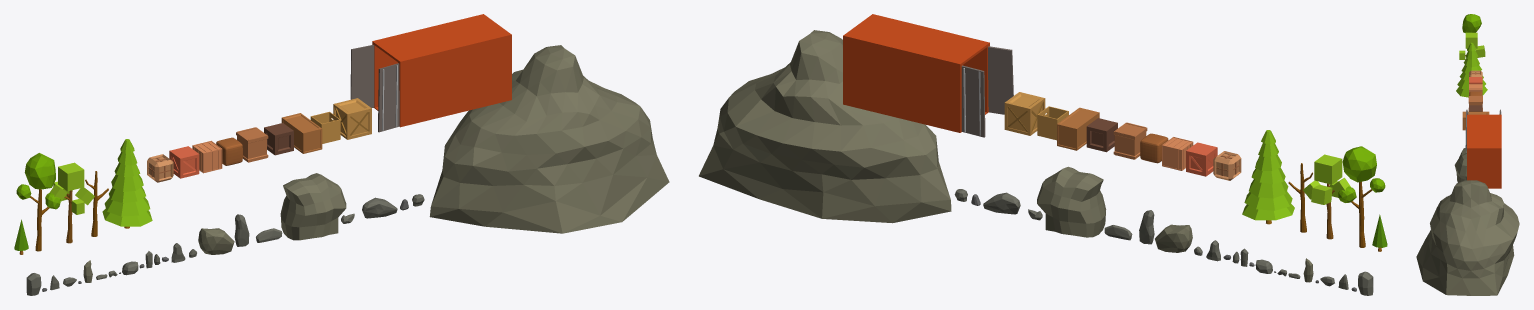
Rendered from All Packs.fbx.
3 views of the same model, side by side, from view 1: azimuth 30°, elevation 25°; view 2: azimuth 150°, elevation 25°; view 3: azimuth 270°, elevation 25° (orthographic). The views are drawn at different scales.
Visible parts, largest first — view 1: Stone 25, Crate 4, Stone 14, Tree 1, Tree 2, Tree 5, Crate 1, Cube, Crate 5, Stone 22, Crate 3, Crate 6 (+5 smaller); view 2: Stone 25, Crate 4, Stone 14, Tree 1, Tree 2, Tree 5, Crate 1, Cube, Crate 5, Stone 22, Crate 6, Crate 3 (+6 smaller); view 3: Stone 25, Crate 4, Tree 1, Tree 5, Tree 2, Stone 14, Cube, Crate 5, Crate 7, Crate 3, Crate 6, Crate 2.
Boxes of the visible parts, x1,y1,x2,y2 form: Stone 25: (429, 45, 669, 233); Crate 4: (350, 14, 511, 132); Stone 14: (280, 173, 346, 240); Tree 1: (102, 139, 152, 228); Tree 2: (16, 153, 60, 251); Tree 5: (49, 162, 94, 243); Crate 1: (333, 98, 371, 139); Cube: (281, 113, 322, 153); Crate 5: (236, 127, 268, 162); Stone 22: (198, 228, 234, 254); Crate 3: (169, 146, 199, 178); Crate 6: (264, 123, 293, 155); Stone 25: (699, 30, 951, 223); Crate 4: (843, 14, 1013, 137); Stone 14: (1037, 166, 1106, 237); Tree 1: (1242, 130, 1294, 224); Tree 2: (1338, 146, 1385, 247); Tree 5: (1303, 154, 1350, 239); Crate 1: (1004, 92, 1045, 135); Cube: (1057, 107, 1099, 150); Crate 5: (1113, 122, 1147, 159); Stone 22: (1155, 224, 1192, 252); Crate 6: (1086, 118, 1117, 152); Crate 3: (1186, 142, 1217, 176); Stone 25: (1416, 180, 1519, 295); Crate 4: (1465, 109, 1501, 188); Tree 1: (1456, 42, 1487, 97); Tree 5: (1459, 32, 1485, 59); Tree 2: (1462, 14, 1481, 50); Stone 14: (1454, 148, 1466, 182); Cube: (1462, 111, 1489, 130); Crate 5: (1468, 96, 1482, 111); Crate 7: (1469, 84, 1482, 95); Crate 3: (1469, 77, 1482, 83); Crate 6: (1469, 105, 1482, 111); Crate 2: (1469, 70, 1482, 76).
Bounding box in the file's own units: 1613 × 433 × 366.
